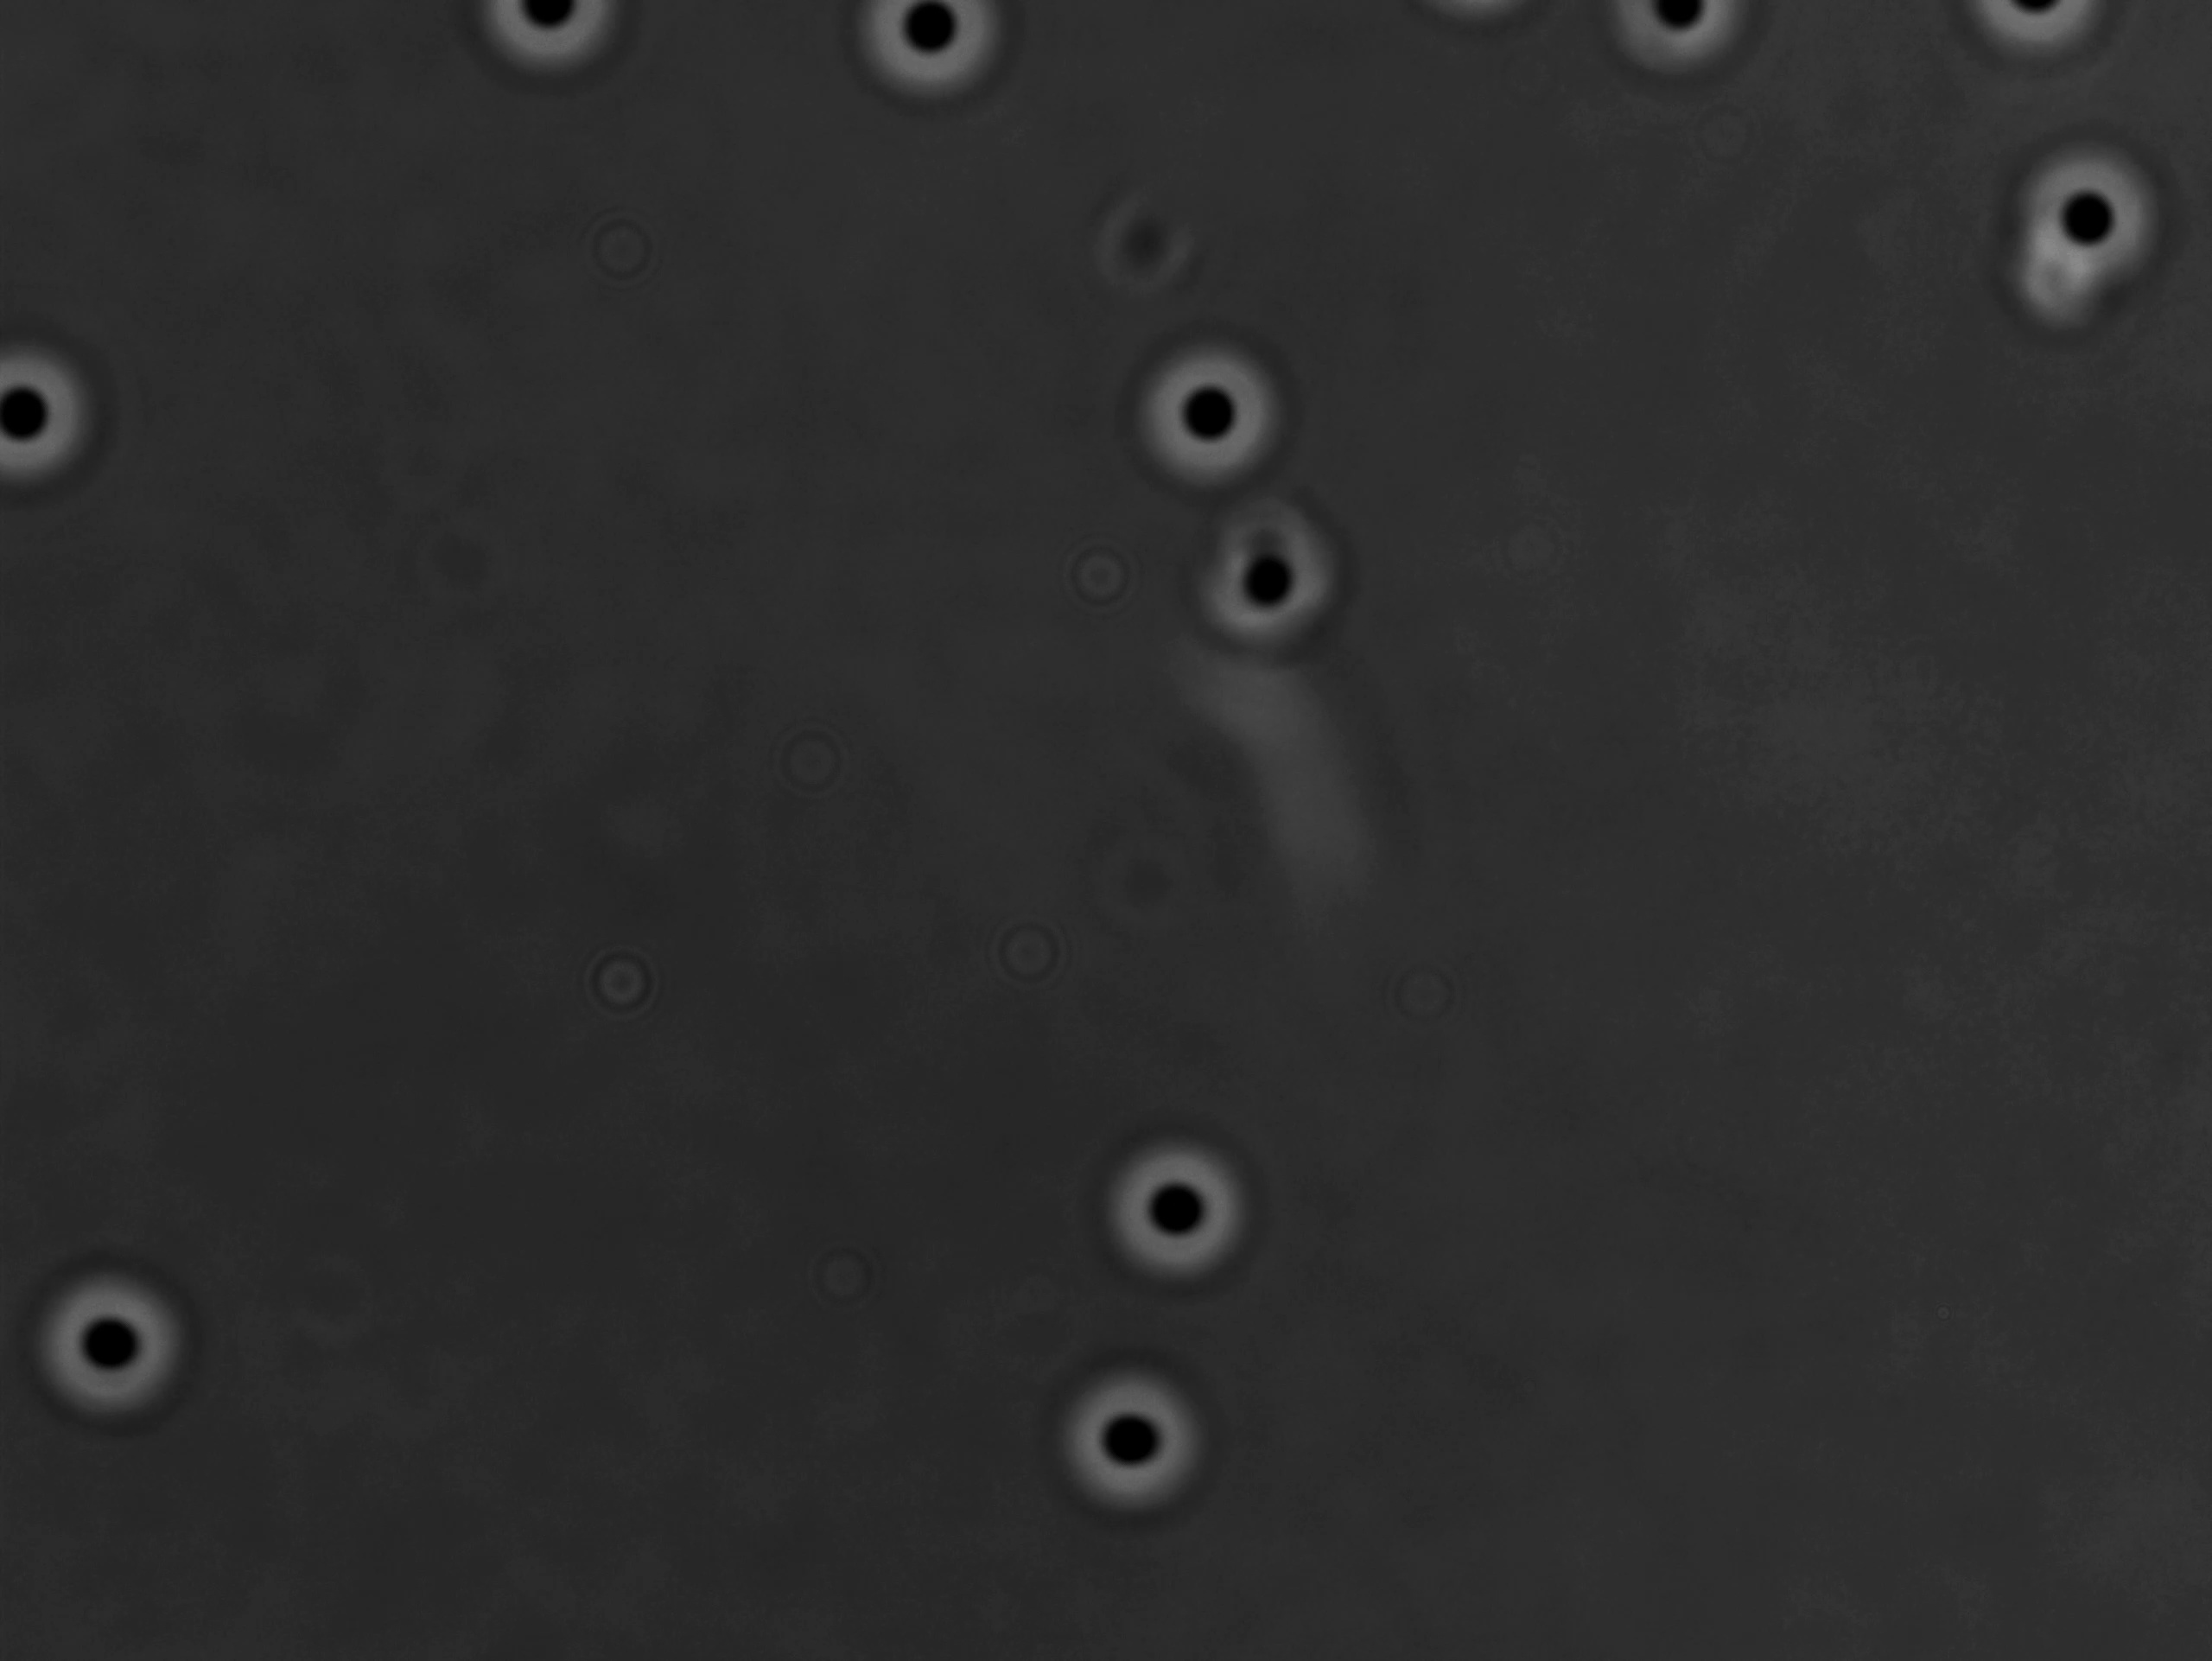depth:-40: (1085, 1122, 1275, 1302), (1047, 1356, 1223, 1527), (2010, 138, 2179, 304), (1120, 330, 1294, 490), (24, 1267, 190, 1425)
